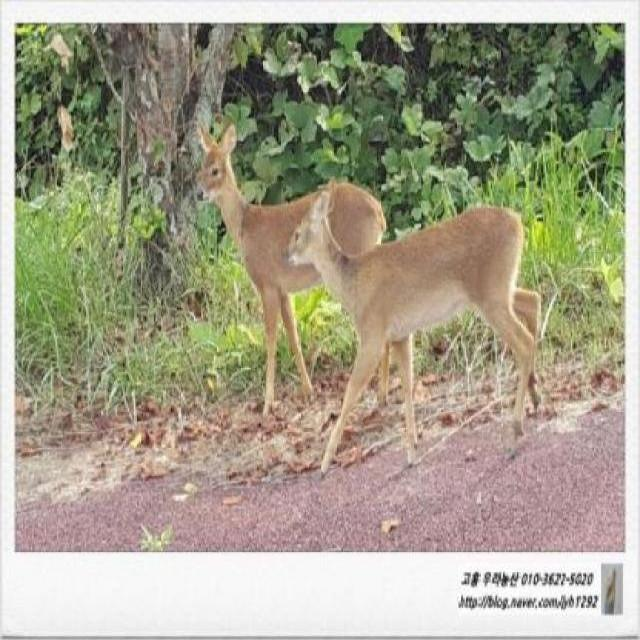deer: (282, 175, 546, 476), (190, 114, 252, 250)
